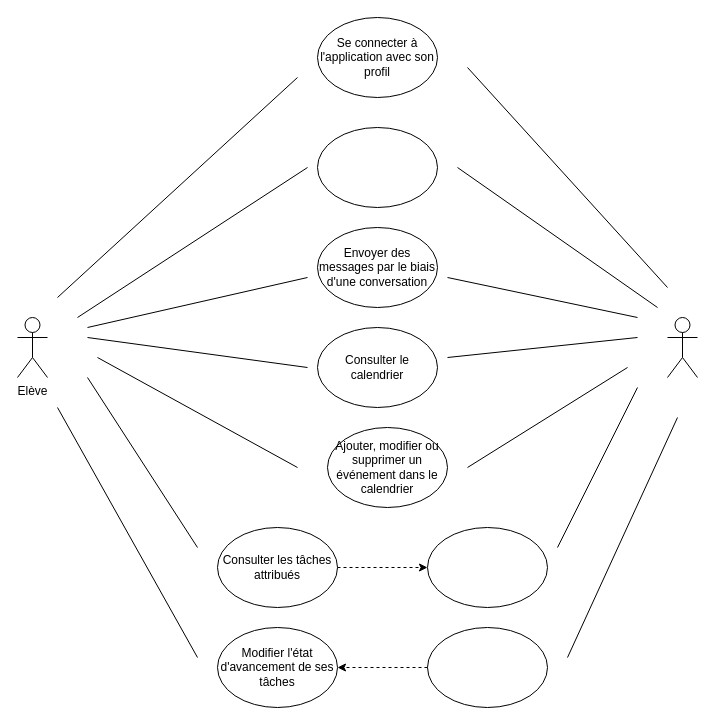
Some shapes in this 725 by 725 pixel diagram are drawn without their labels. Here are the shapes that lost their labels. From the top down, the centre of each, then its label:
(377,167): Consulter page de chat
(682,347): Bénévole
(487,567): Ajouter des tâches à ses élèves
(487,667): Consulter l'état des tâches de ses élèves
